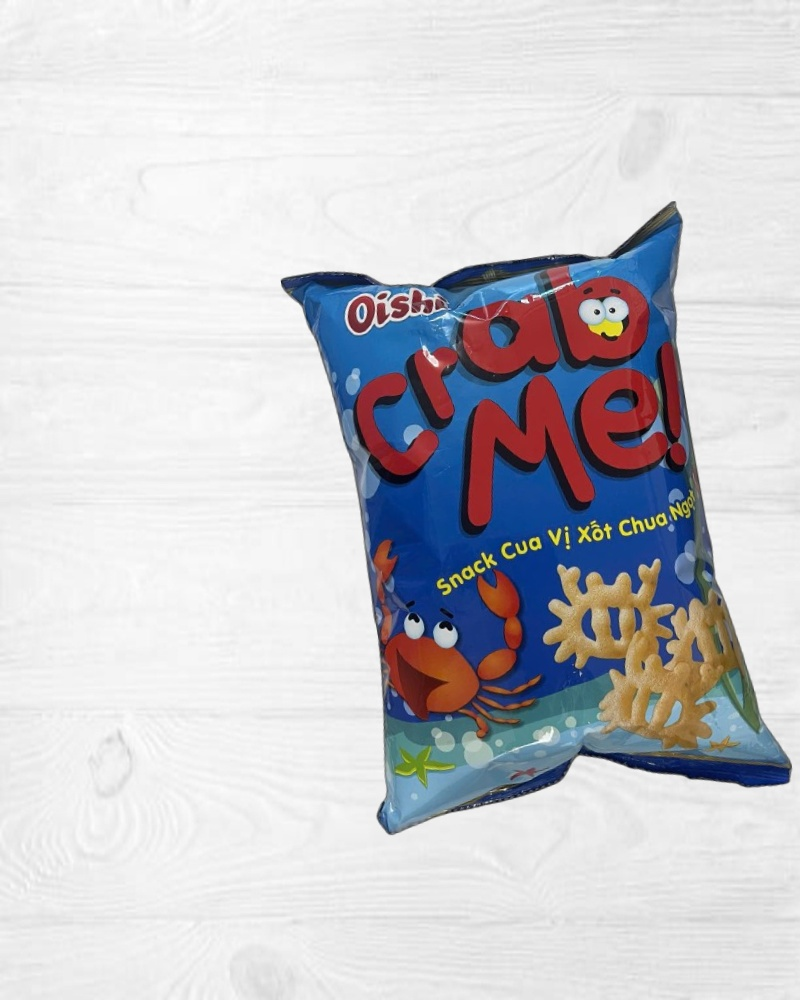Snack cua: (280, 199, 794, 849)
